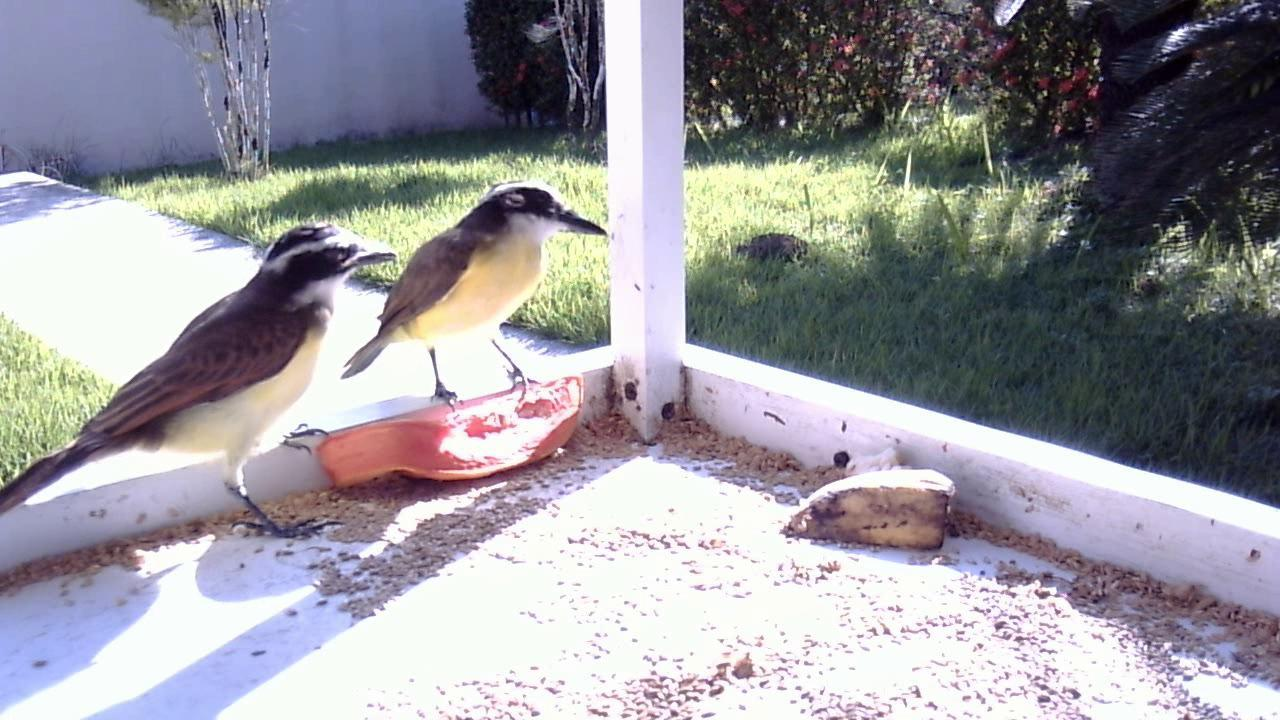bem_te_vi: (1, 201, 390, 567), (330, 175, 611, 420)
